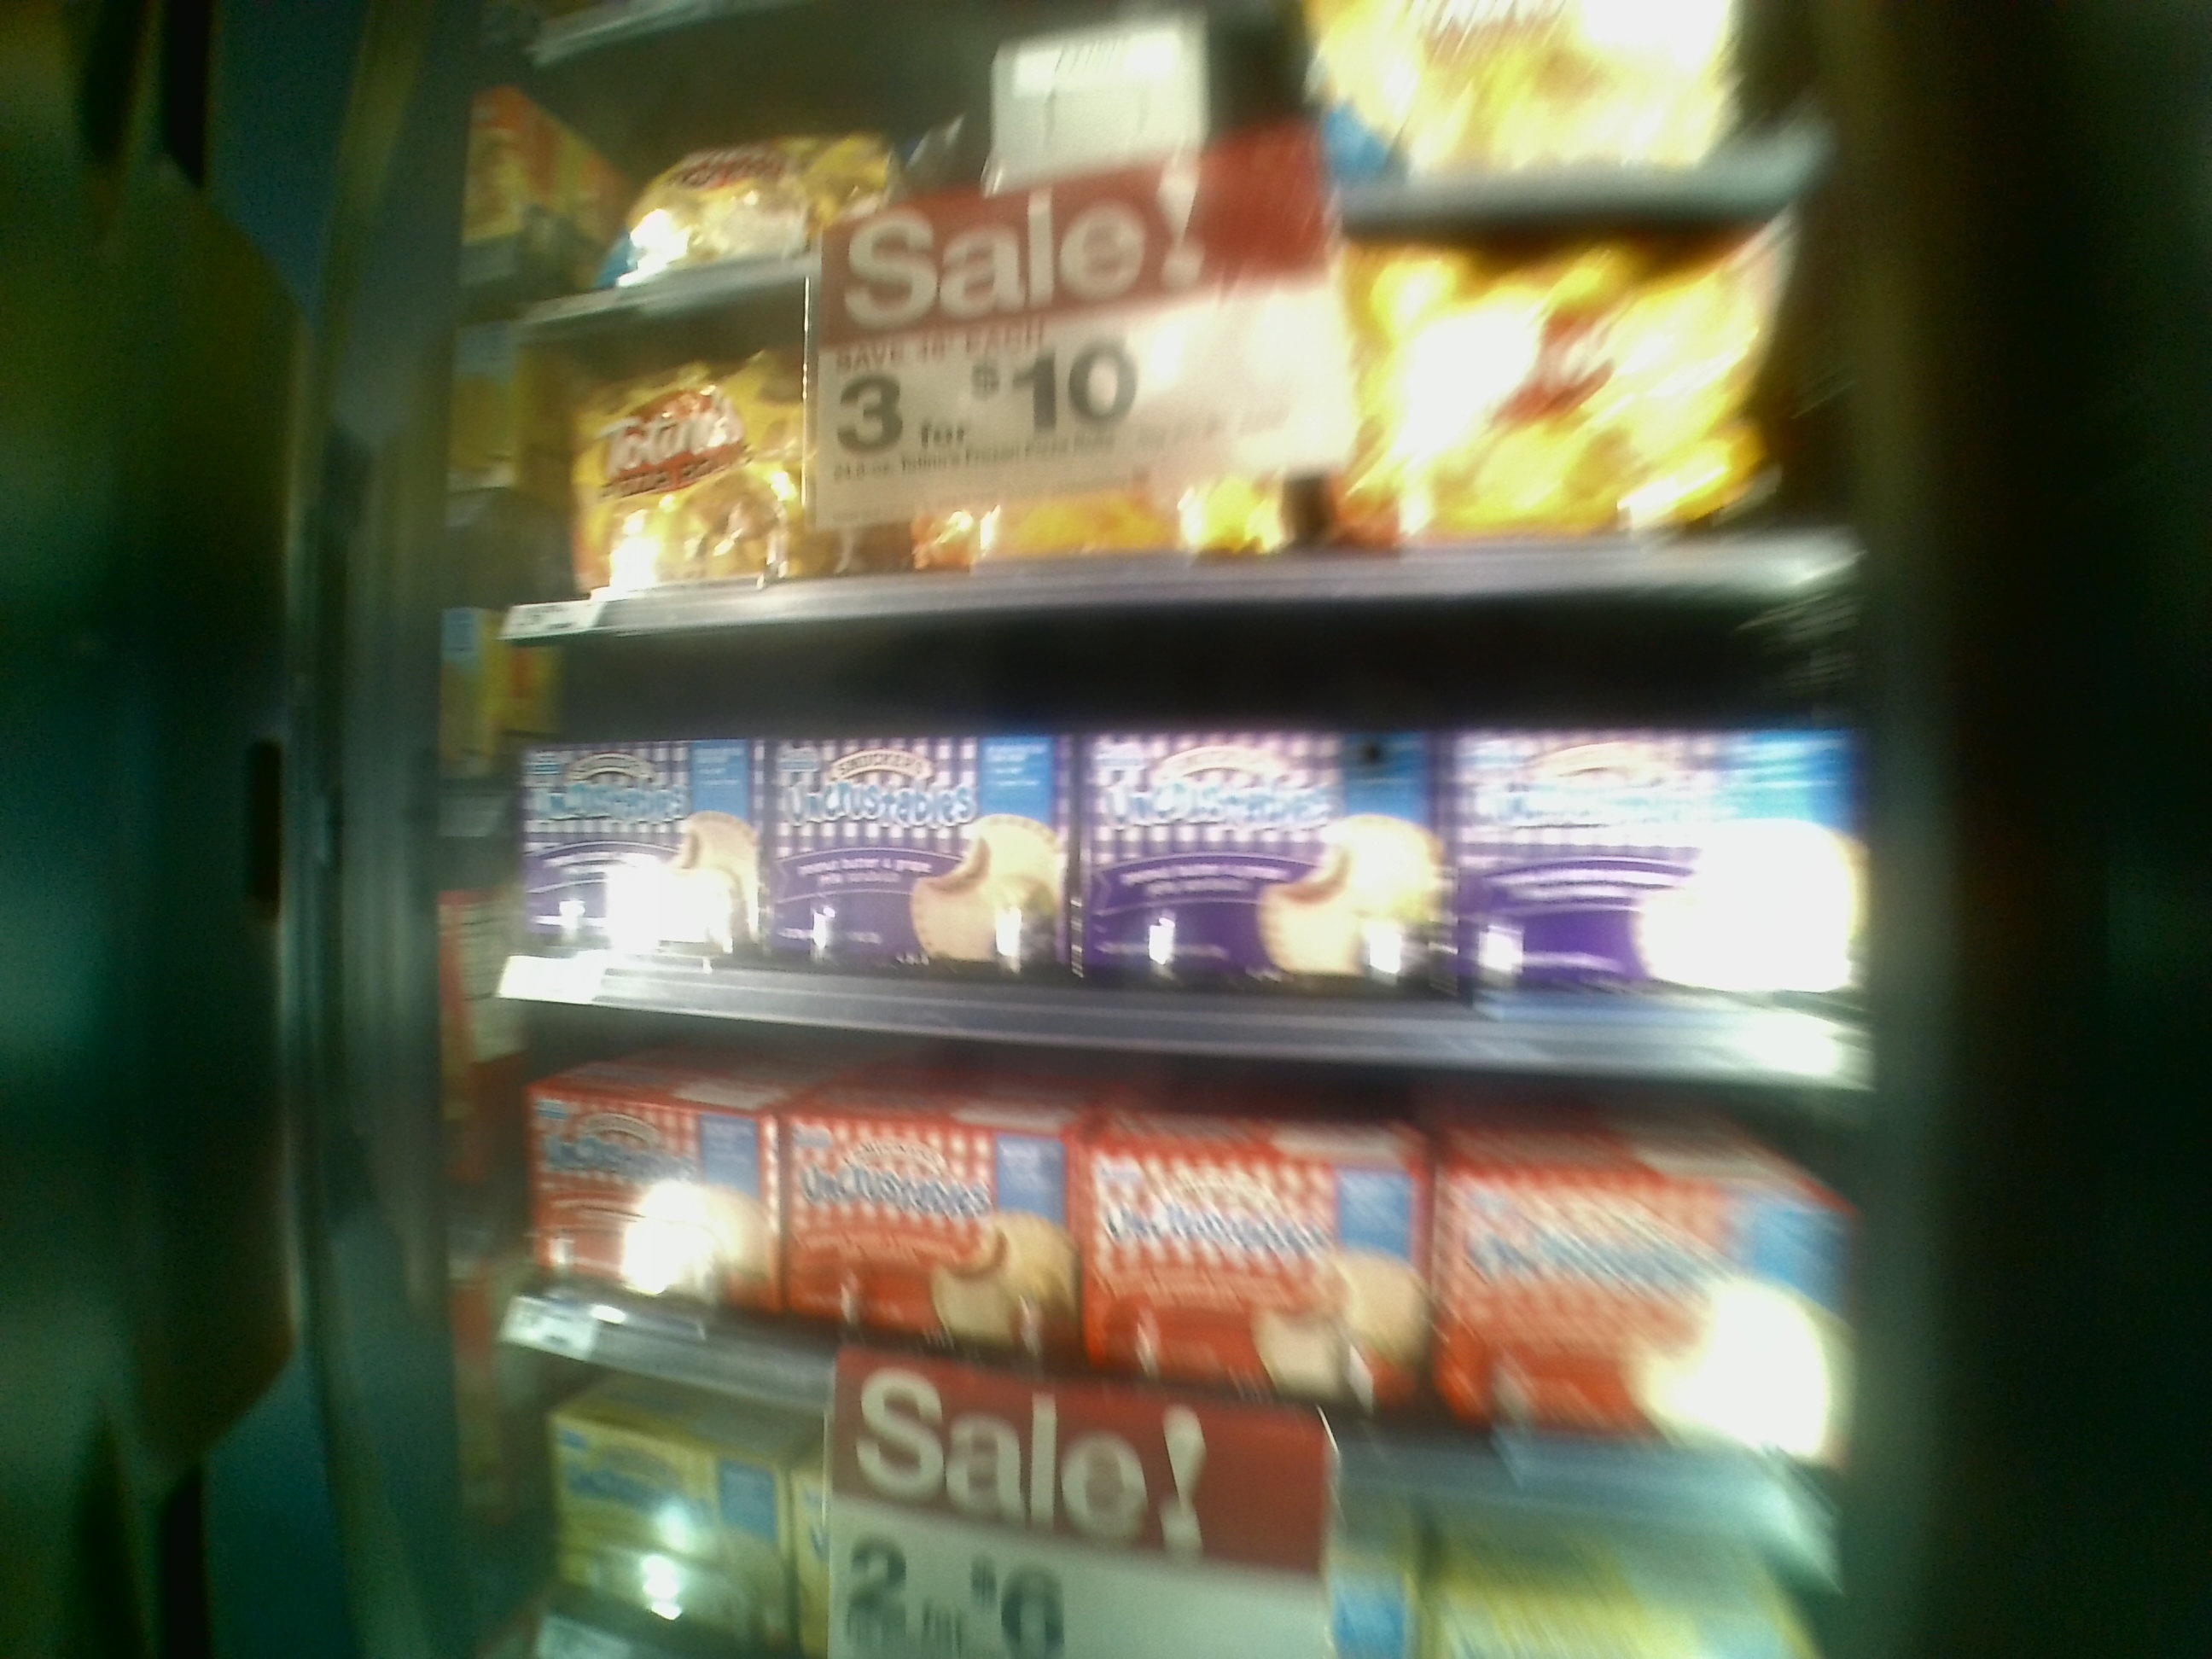shelf: (477, 638, 1853, 1084)
